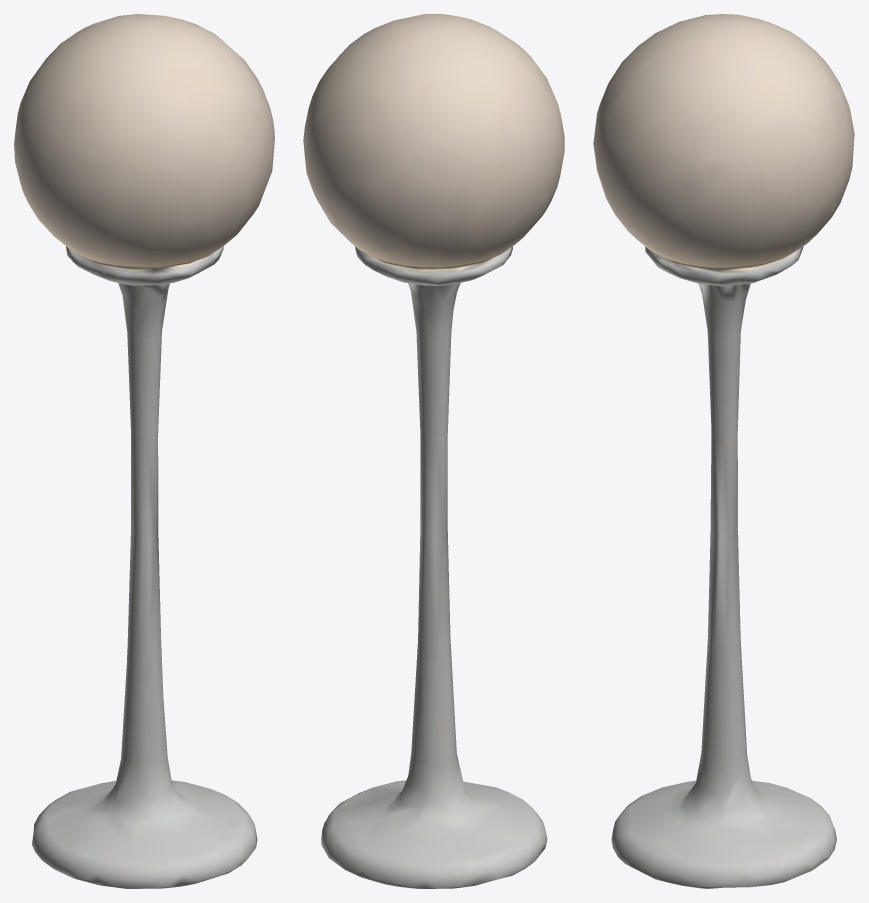
File: m-lampara.glb
3 renders of one model, left to right at view 1: azimuth 30°, elevation 25°; view 2: azimuth 150°, elevation 25°; view 3: azimuth 270°, elevation 25°, orthographic.
Parts seen in each view (by area): view 1: tripo_node_7f3b55f7-2848-455c-923f-ce989d82bac1; view 2: tripo_node_7f3b55f7-2848-455c-923f-ce989d82bac1; view 3: tripo_node_7f3b55f7-2848-455c-923f-ce989d82bac1.
Part boxes in pixels (x1,y1,x2,y2): tripo_node_7f3b55f7-2848-455c-923f-ce989d82bac1: [14, 14, 274, 888]; tripo_node_7f3b55f7-2848-455c-923f-ce989d82bac1: [303, 14, 564, 888]; tripo_node_7f3b55f7-2848-455c-923f-ce989d82bac1: [593, 14, 854, 888].
Size of the model in its own units: 0.2889 by 1 by 0.2894.
1 material, 1 textured.
